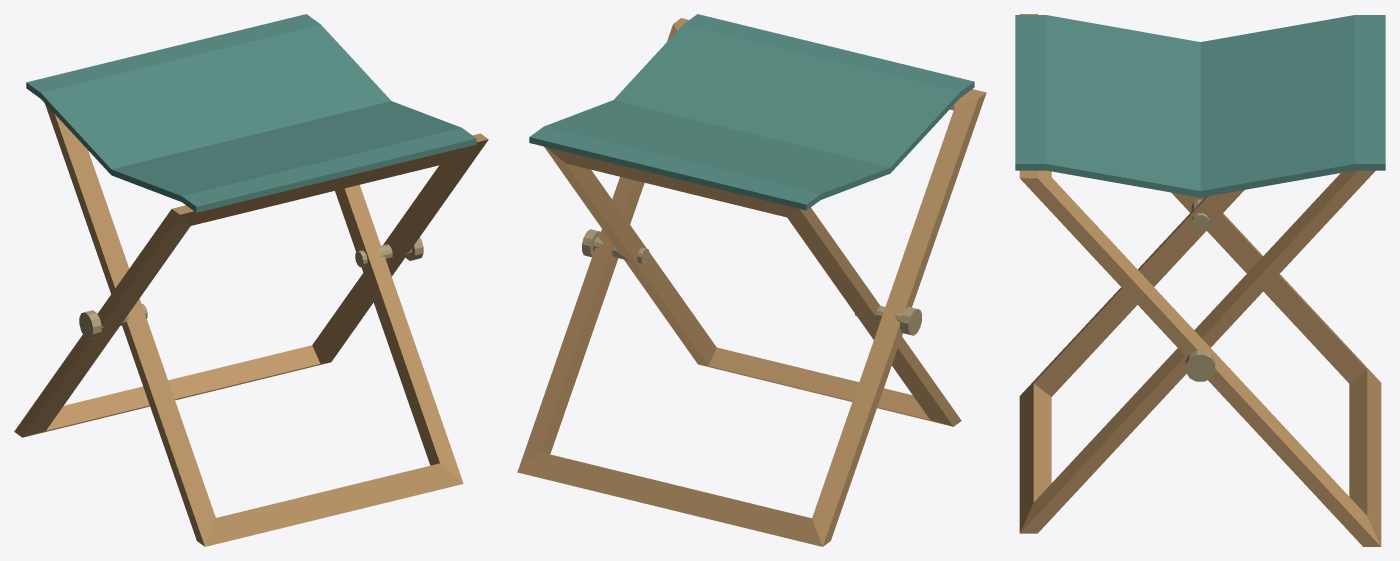
3 views of the same model, side by side, from view 1: azimuth 30°, elevation 25°; view 2: azimuth 150°, elevation 25°; view 3: azimuth 270°, elevation 25° (orthographic). The views are drawn at different scales.
Visible parts, largest first — view 1: WholeContinuousSaggedSling, WholeNarrowCrossedLoopFrame, WholeWideCrossedLoopFrame, WholeLeftSteppedSpindle, WholeRightSteppedSpindle; view 2: WholeContinuousSaggedSling, WholeWideCrossedLoopFrame, WholeNarrowCrossedLoopFrame, WholeLeftSteppedSpindle, WholeRightSteppedSpindle; view 3: WholeContinuousSaggedSling, WholeWideCrossedLoopFrame, WholeNarrowCrossedLoopFrame, WholeRightSteppedSpindle.
Boxes of the visible parts, x1,y1,x2,y2 form: WholeContinuousSaggedSling: (26,14,476,212); WholeNarrowCrossedLoopFrame: (45,104,463,546); WholeWideCrossedLoopFrame: (14,133,488,437); WholeLeftSteppedSpindle: (79,304,147,339); WholeRightSteppedSpindle: (355,237,423,267); WholeContinuousSaggedSling: (529,14,974,210); WholeWideCrossedLoopFrame: (517,18,986,546); WholeNarrowCrossedLoopFrame: (544,146,961,426); WholeLeftSteppedSpindle: (854,305,921,335); WholeRightSteppedSpindle: (582,229,649,264); WholeContinuousSaggedSling: (1015,15,1385,197); WholeWideCrossedLoopFrame: (1019,14,1381,546); WholeNarrowCrossedLoopFrame: (1019,170,1375,533); WholeRightSteppedSpindle: (1185,350,1215,381).
Size of the model in its own units: 0.46 by 0.458 by 0.41.
